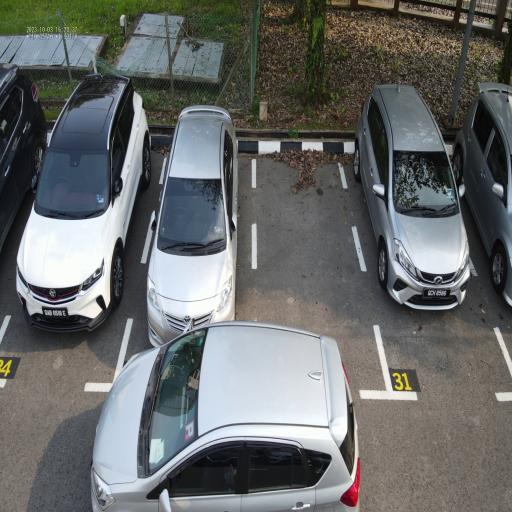Empty: (242, 144, 400, 413)
Illegal: (91, 316, 361, 512)
Occupied: (100, 142, 267, 404)
